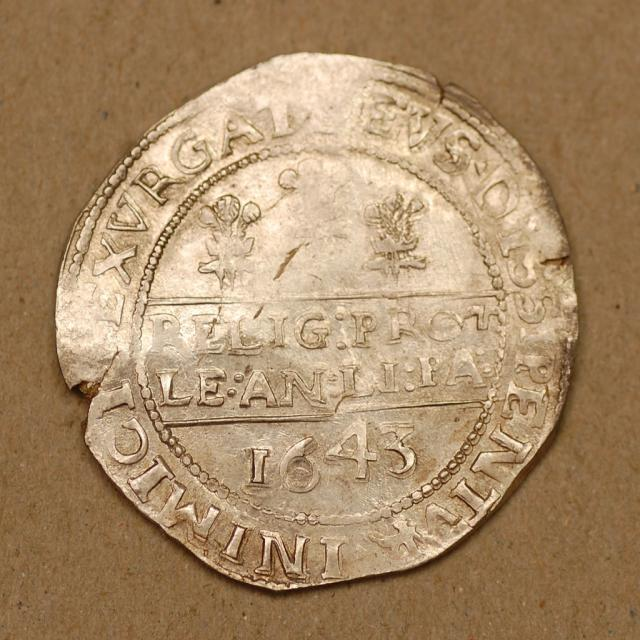Coin: (57, 52, 579, 591)
